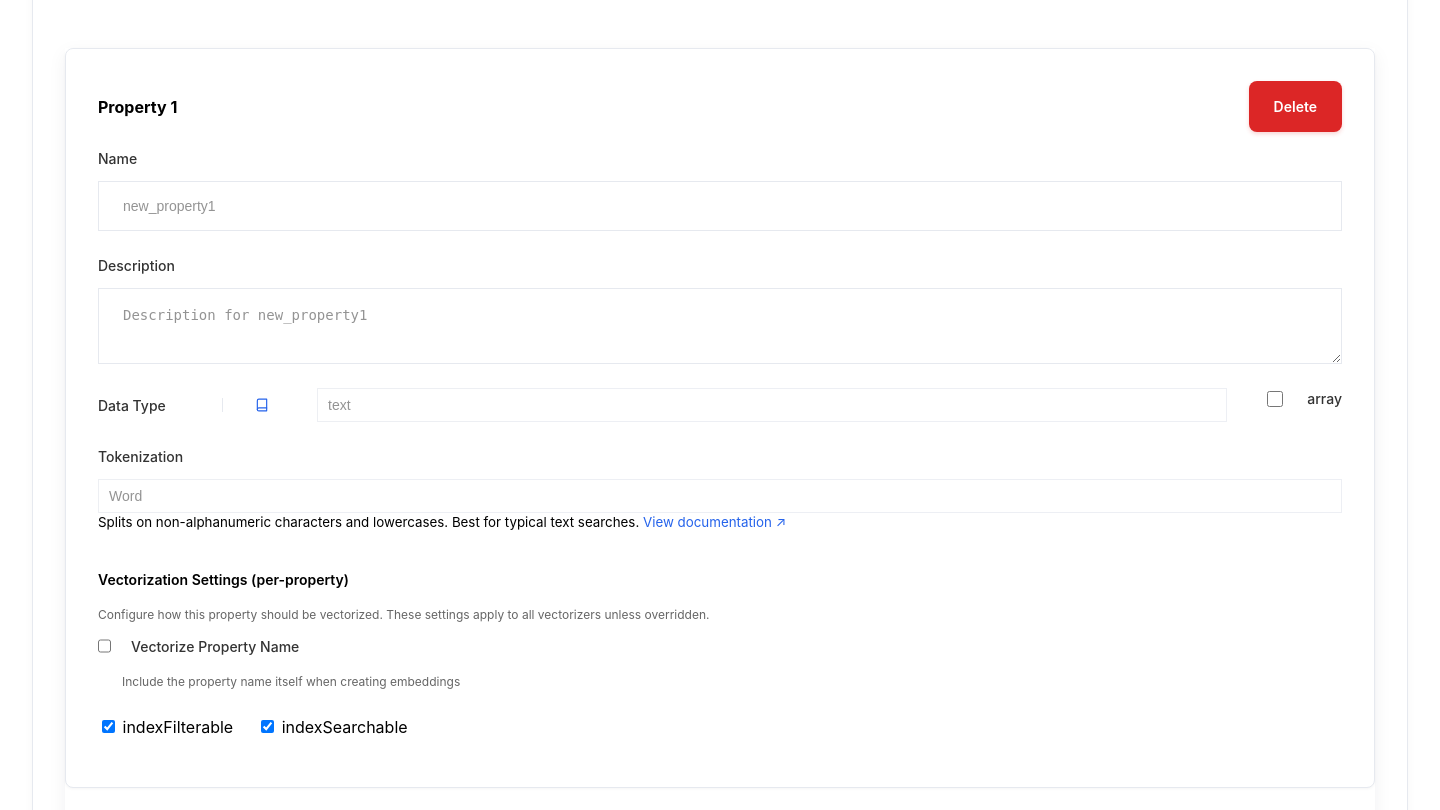
Test case: Collection - Object DataType with Nested Properties › should display nested properties section when object type is selected
(page scrolled)
Note: Find and change first property to object type
Select "object" in the dropdown with class "data-type-select" at (772, 405), box [317,388,1227,422]
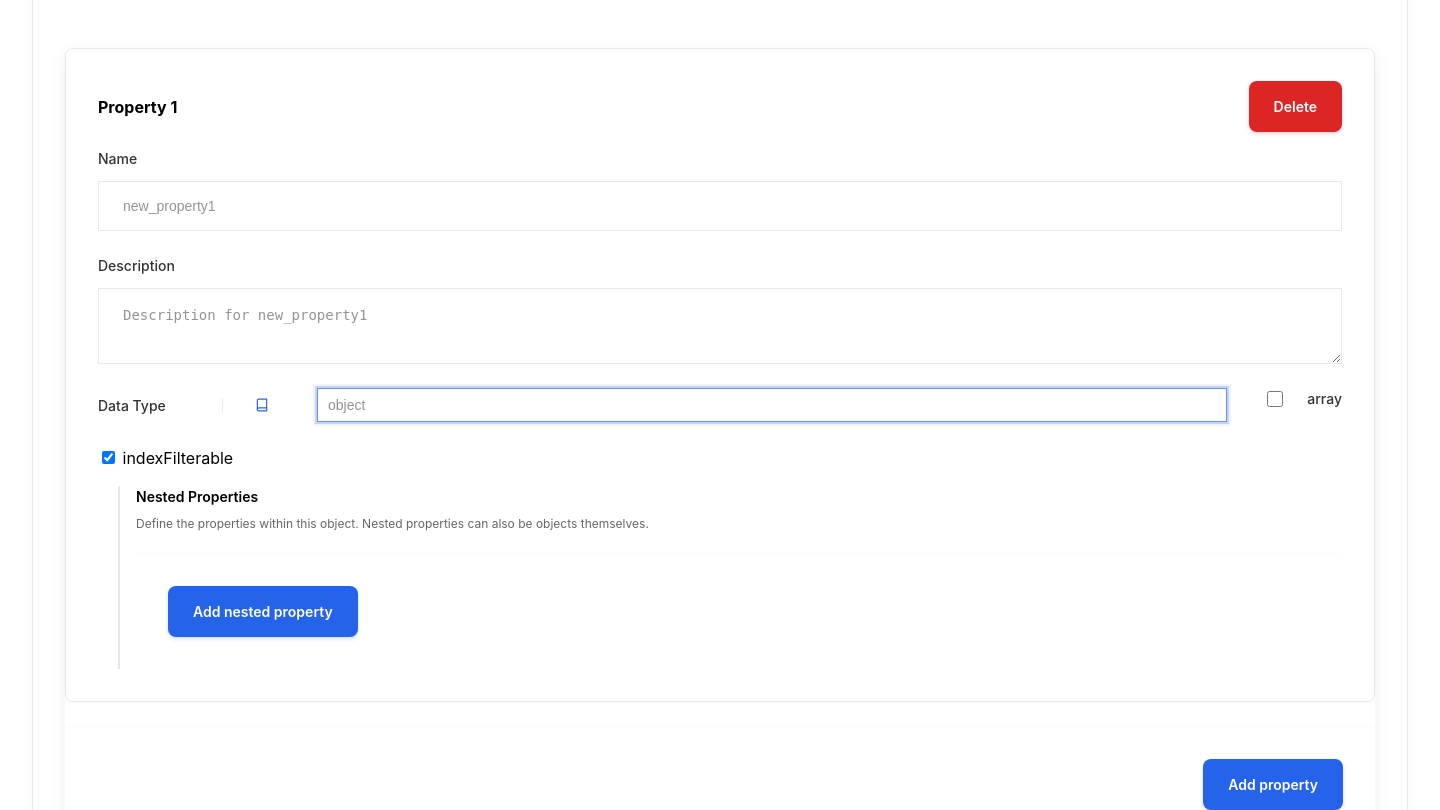
Expected: the element with class "nested-property-section" is shown, [118,486,1342,669]
Expected: the button "Add nested property" is shown, [168,586,358,637]
